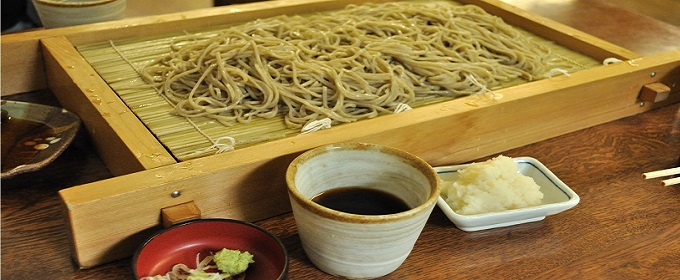Soba: (150, 2, 558, 112)
